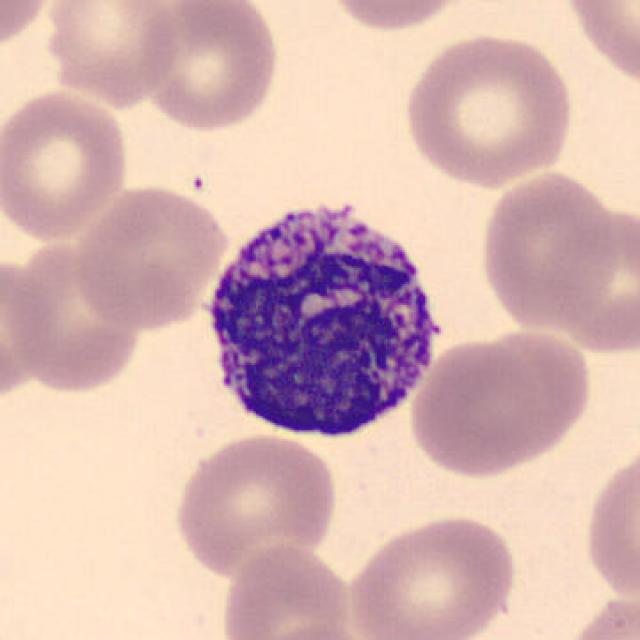Basophil: (190, 183, 455, 448)
RBC: (398, 28, 578, 190), (404, 328, 594, 479), (169, 430, 341, 580), (475, 167, 622, 335), (68, 180, 231, 331), (343, 509, 521, 640), (0, 84, 133, 243), (18, 239, 145, 394), (138, 2, 282, 132), (537, 201, 638, 356), (41, 0, 183, 108), (217, 539, 359, 640), (580, 441, 638, 608), (0, 247, 57, 407), (556, 0, 639, 93), (321, 0, 476, 35), (560, 589, 640, 640), (0, 0, 64, 55), (248, 620, 380, 640)
